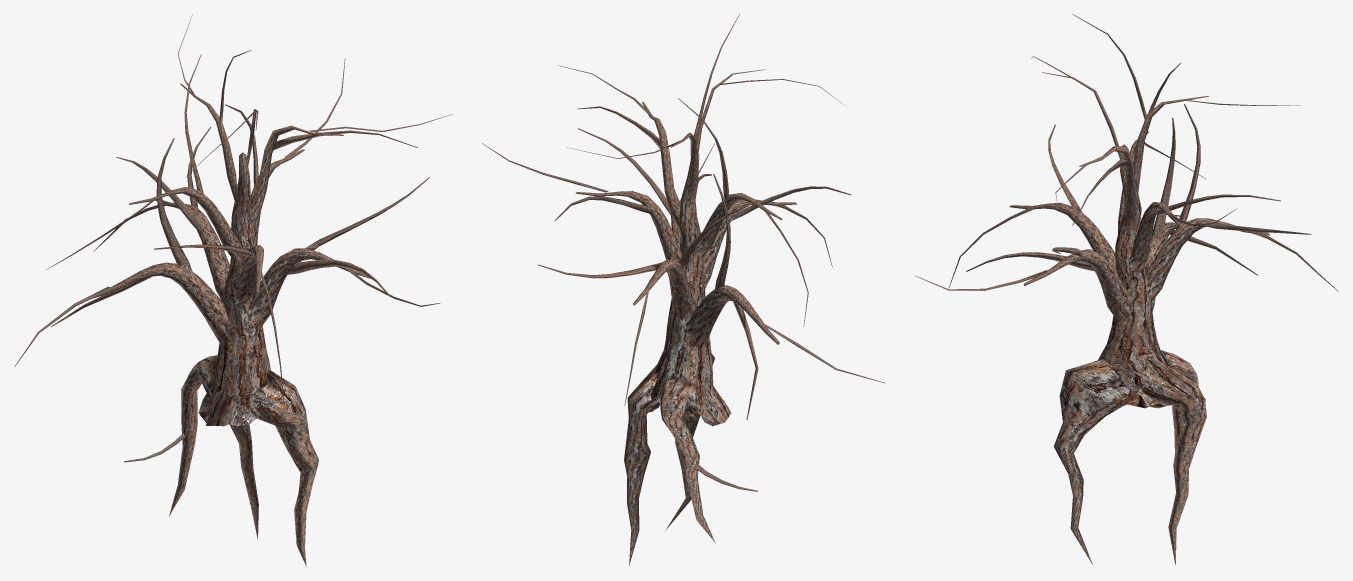
File: tree.fbx
3 renders of one model, left to right at view 1: azimuth 30°, elevation 25°; view 2: azimuth 150°, elevation 25°; view 3: azimuth 270°, elevation 25°, orthographic. The views are drawn at different scales.
Visible parts, largest first — view 1: Tree_3; view 2: Tree_3; view 3: Tree_3.
Boxes of the visible parts, x1,y1,x2,y2 form: Tree_3: [14, 14, 453, 566]; Tree_3: [482, 14, 885, 565]; Tree_3: [915, 14, 1338, 565].
Bounding box in the file's own units: 19.62 × 26.29 × 19.26.
1 material, 1 textured.
